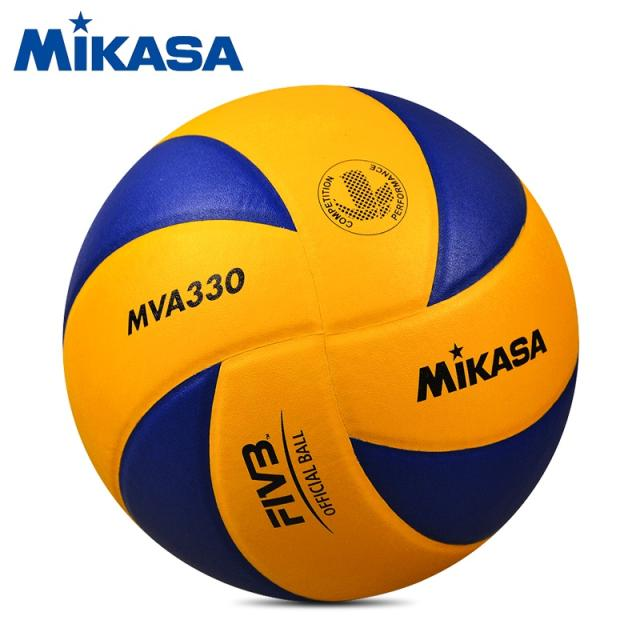Volleyball: (62, 81, 578, 603)
